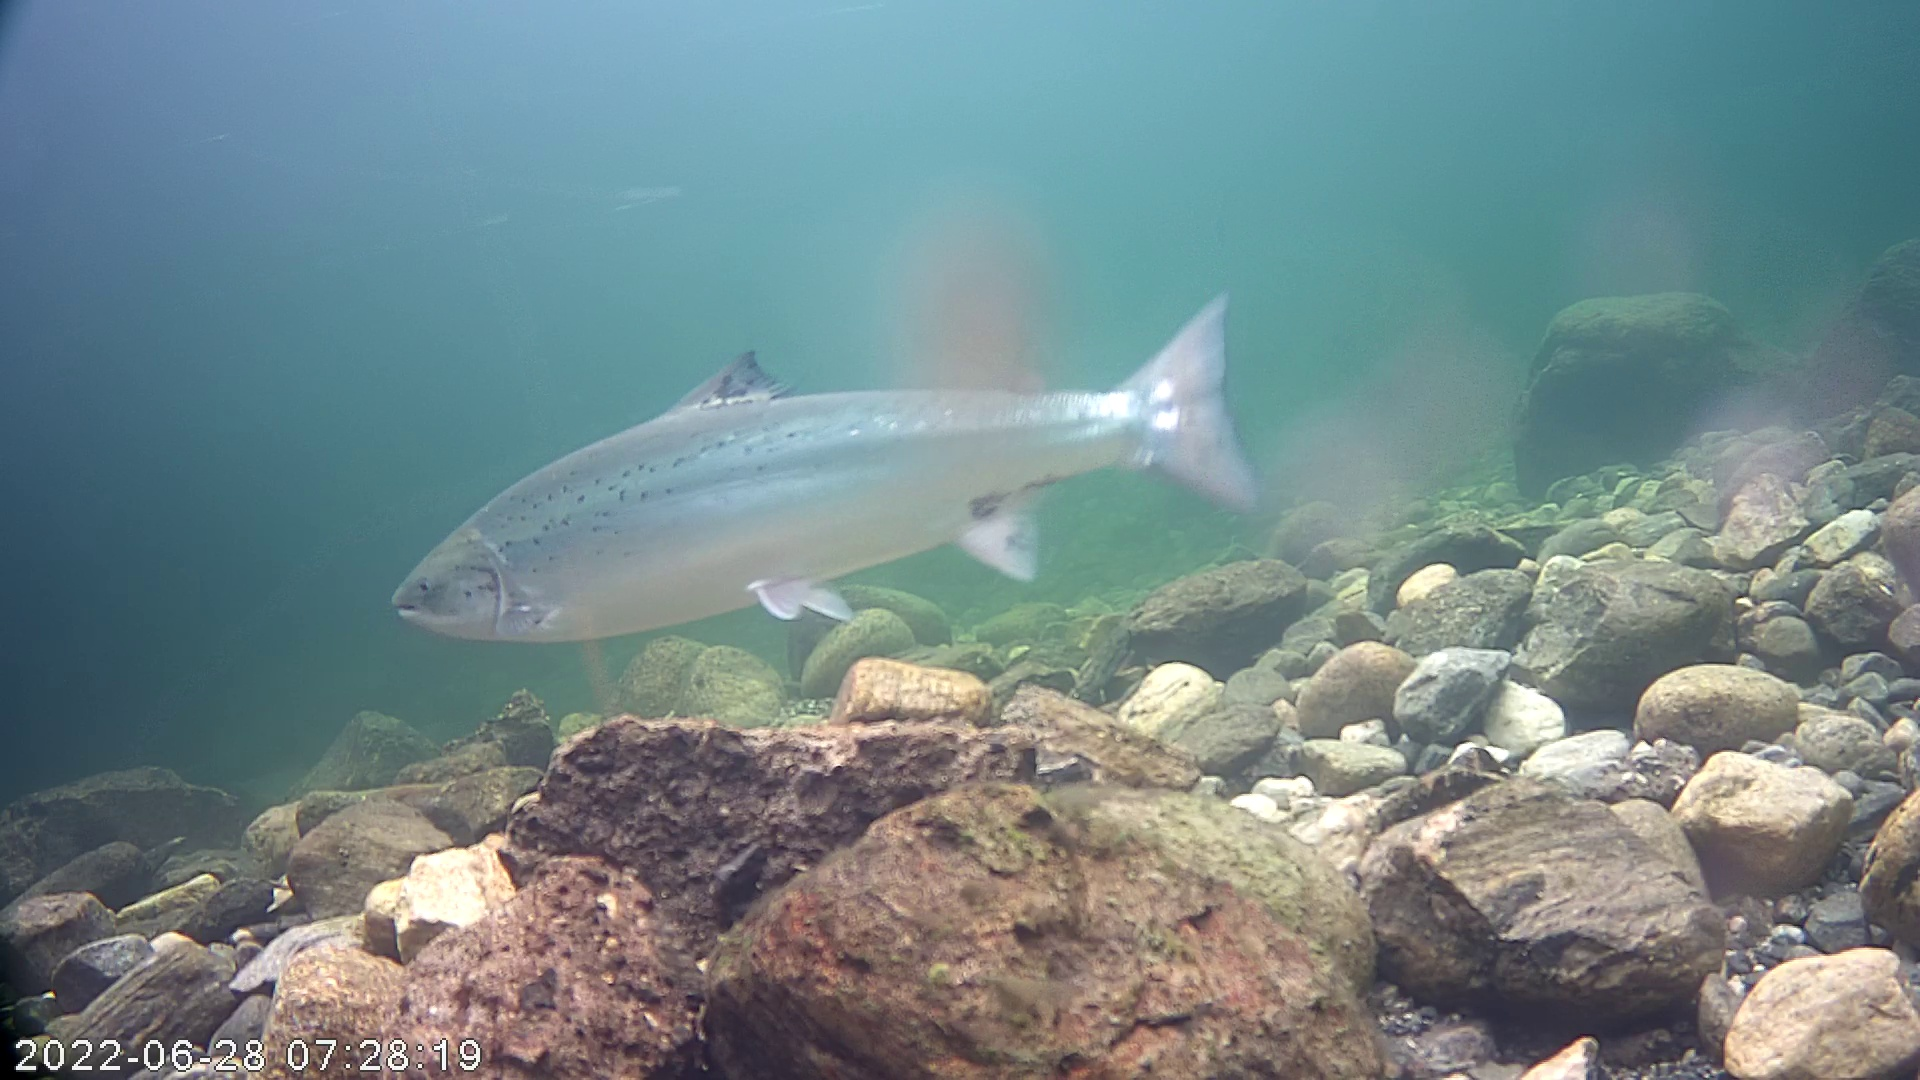salmon: (390, 227, 1276, 688)
